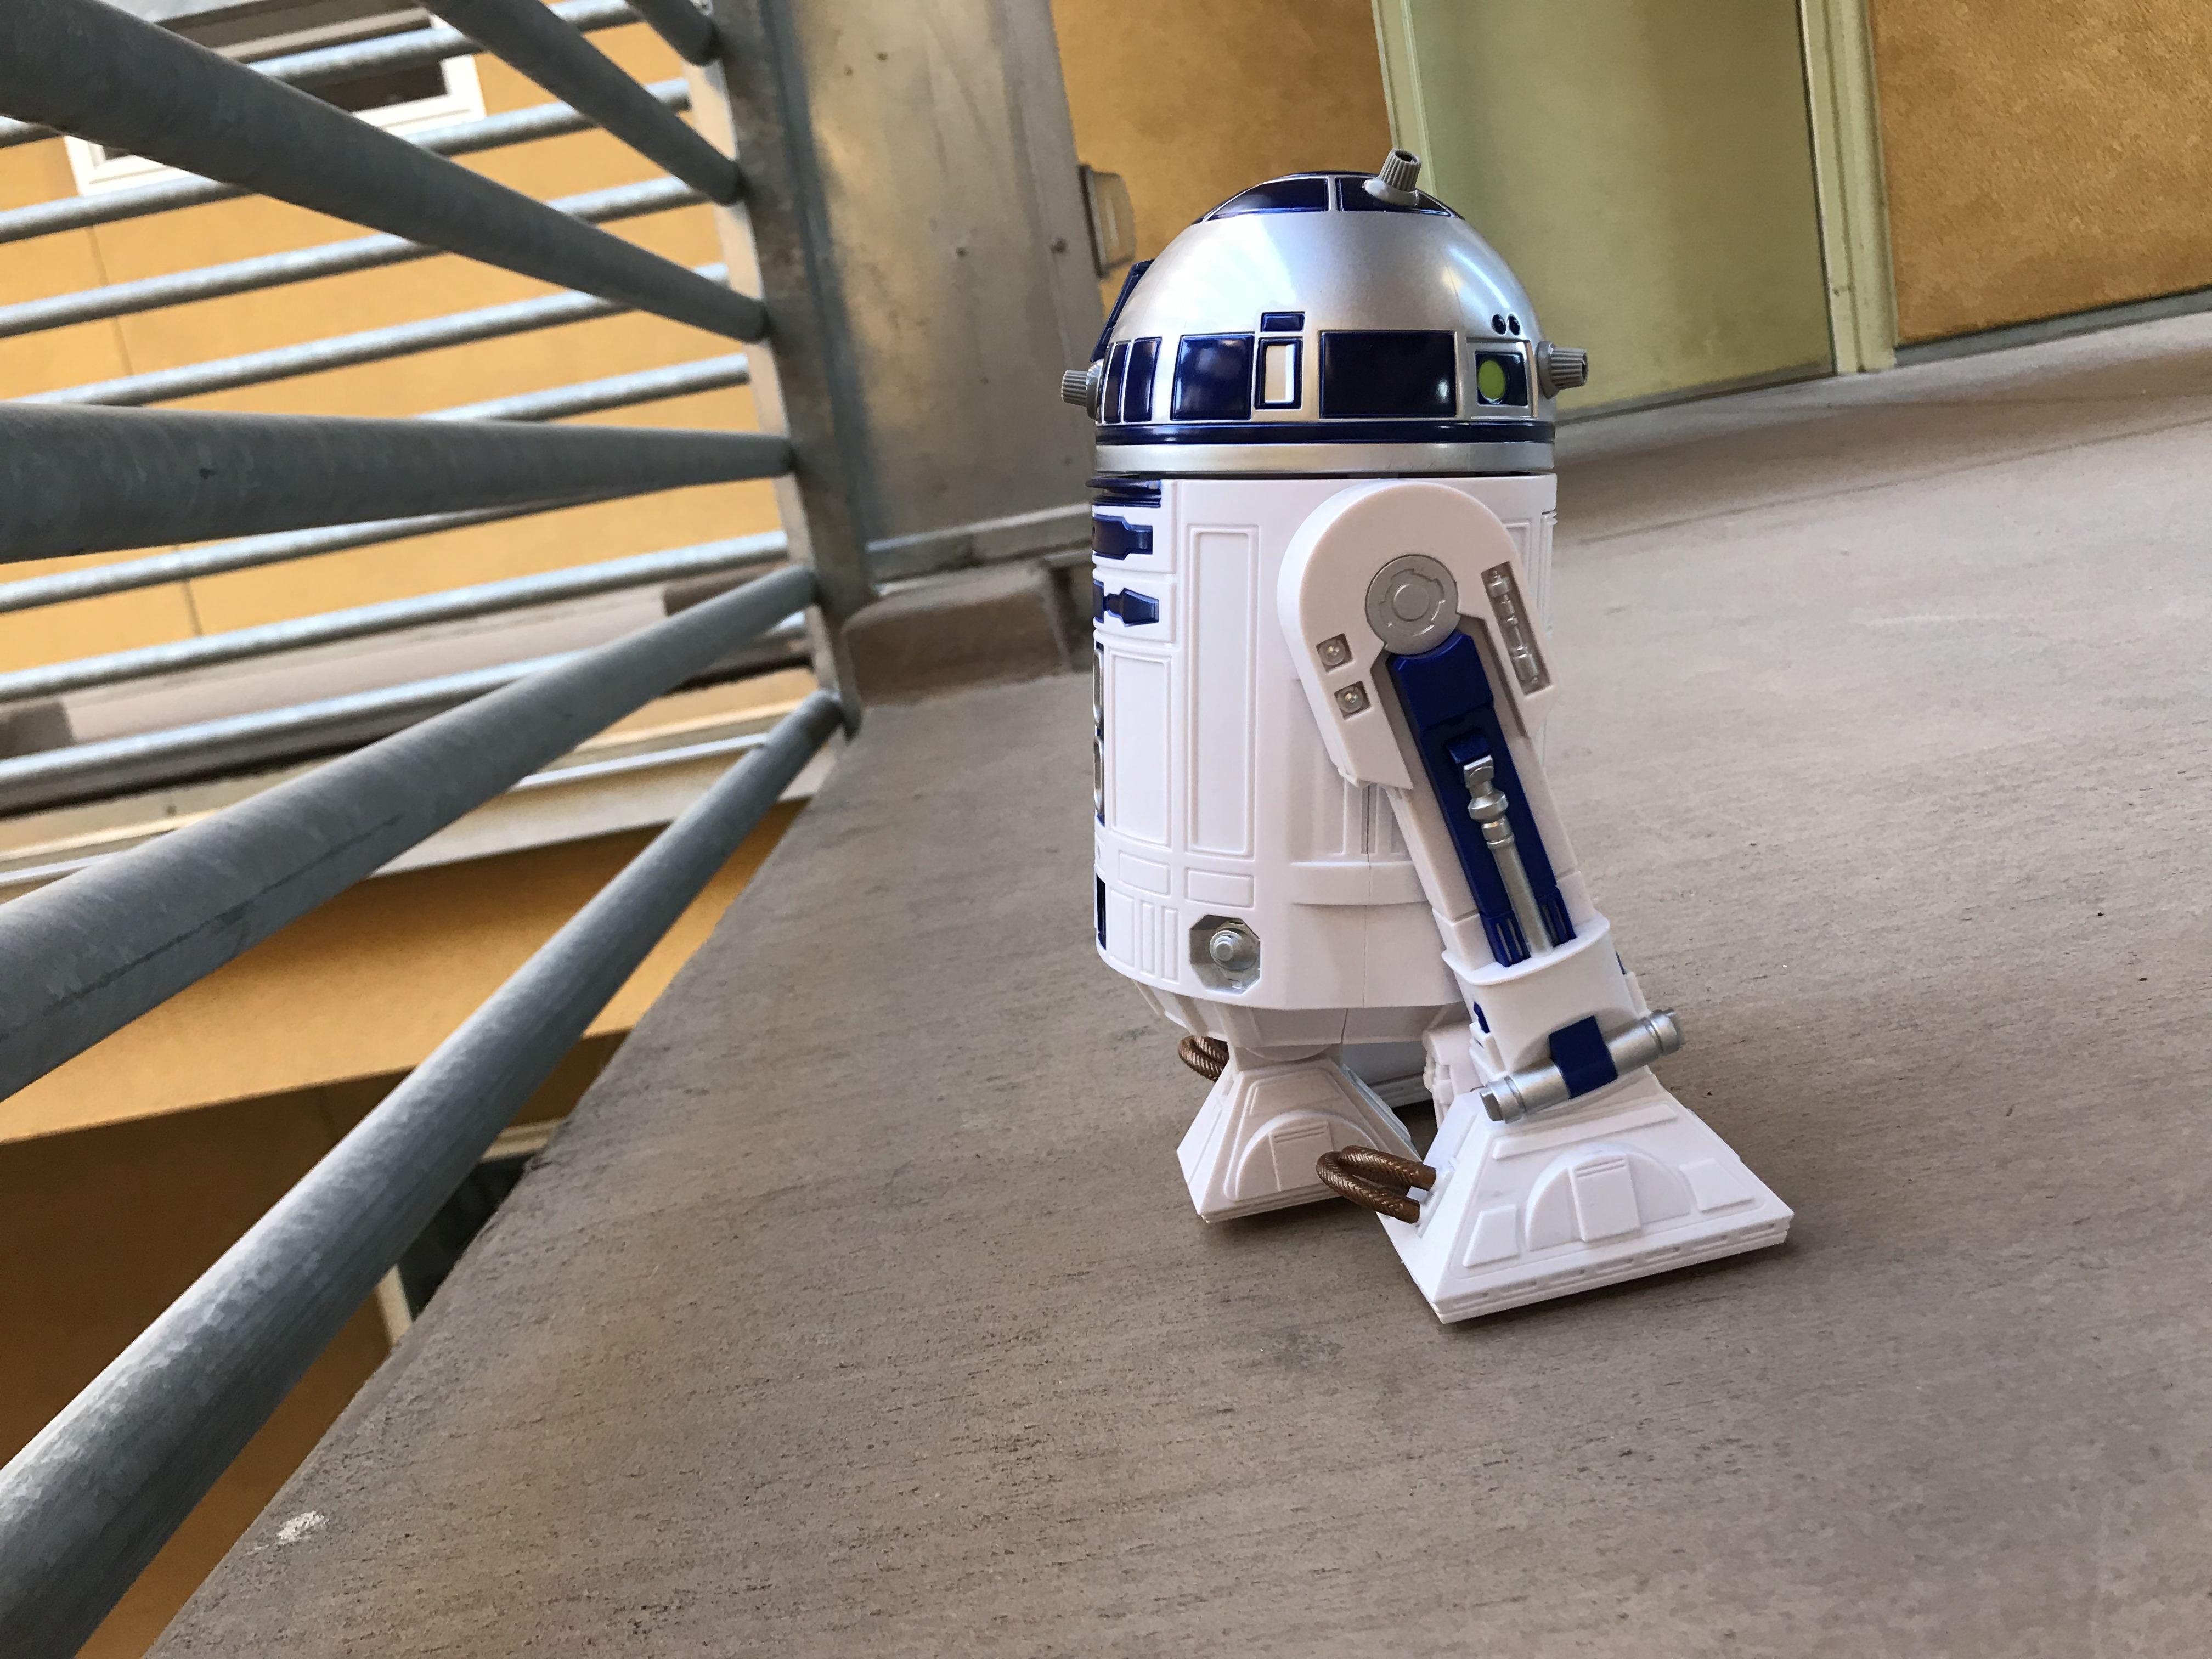r2d2: (1061, 146, 1796, 1330)
